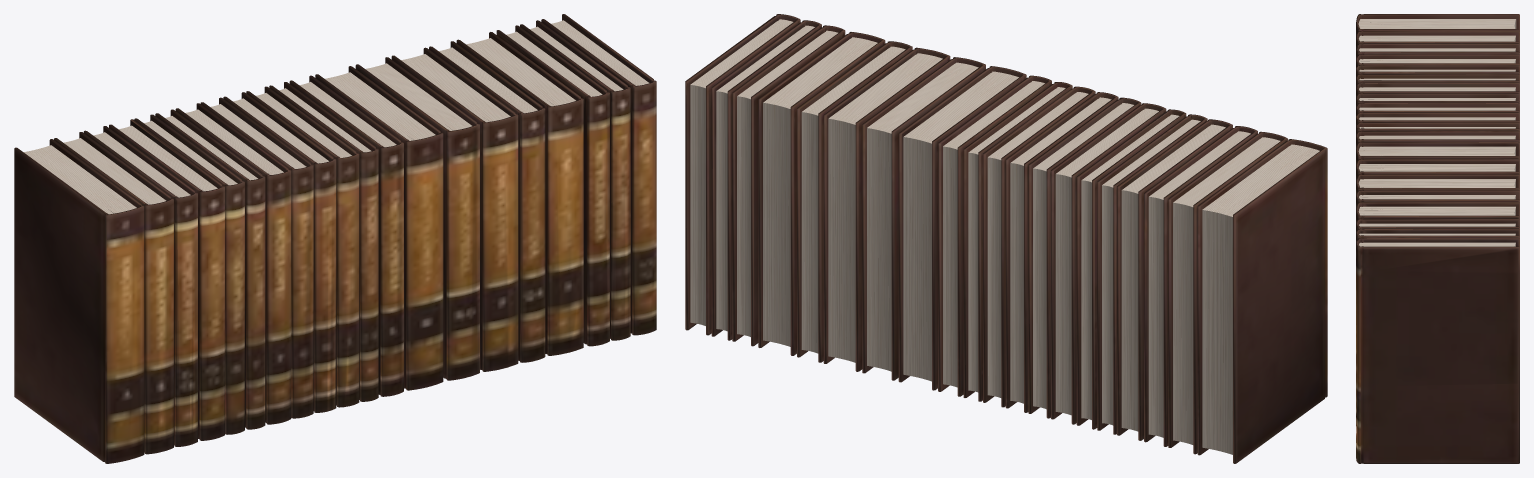
File: book_encyclopedia_set_01.glb
3 renders of one model, left to right at view 1: azimuth 30°, elevation 25°; view 2: azimuth 150°, elevation 25°; view 3: azimuth 270°, elevation 25°, orthographic. The views are drawn at different scales.
Visible parts, largest first — view 1: book_encyclopedia_set_01_book01; view 2: book_encyclopedia_set_01_book01; view 3: book_encyclopedia_set_01_book01.
Boxes of the visible parts, x1,y1,x2,y2 form: book_encyclopedia_set_01_book01: (14,14,656,463); book_encyclopedia_set_01_book01: (685,14,1327,463); book_encyclopedia_set_01_book01: (1356,14,1519,463).
Bounding box in the file's own units: 0.5513 × 0.2374 × 0.1631.
Materials: 2 (2 with a texture image).
